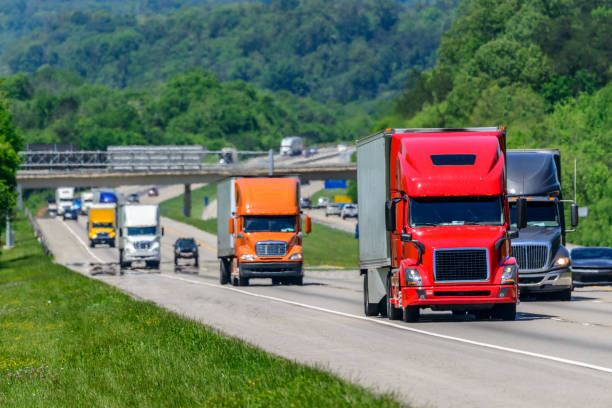Car: (569, 242, 612, 289), (168, 229, 207, 265)
Truck: (351, 124, 522, 334), (211, 172, 313, 289), (80, 196, 119, 250), (273, 131, 311, 160)
